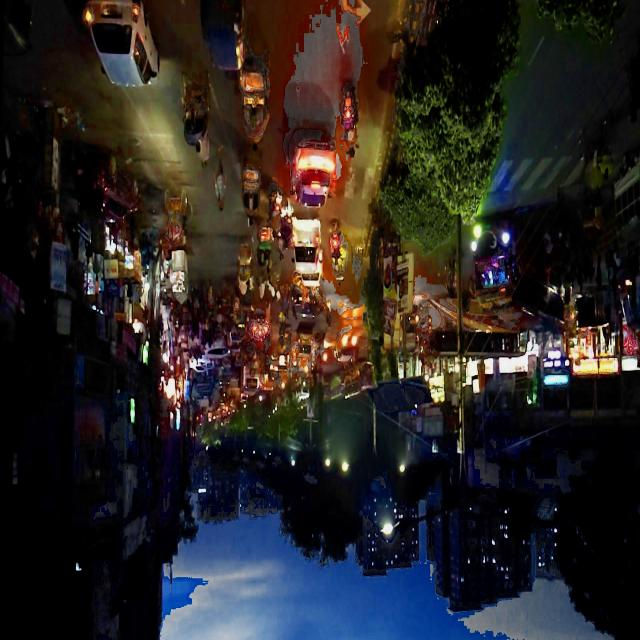maroon: (75, 148, 143, 224)
white: (84, 0, 159, 87), (291, 136, 335, 208), (293, 213, 321, 276)
